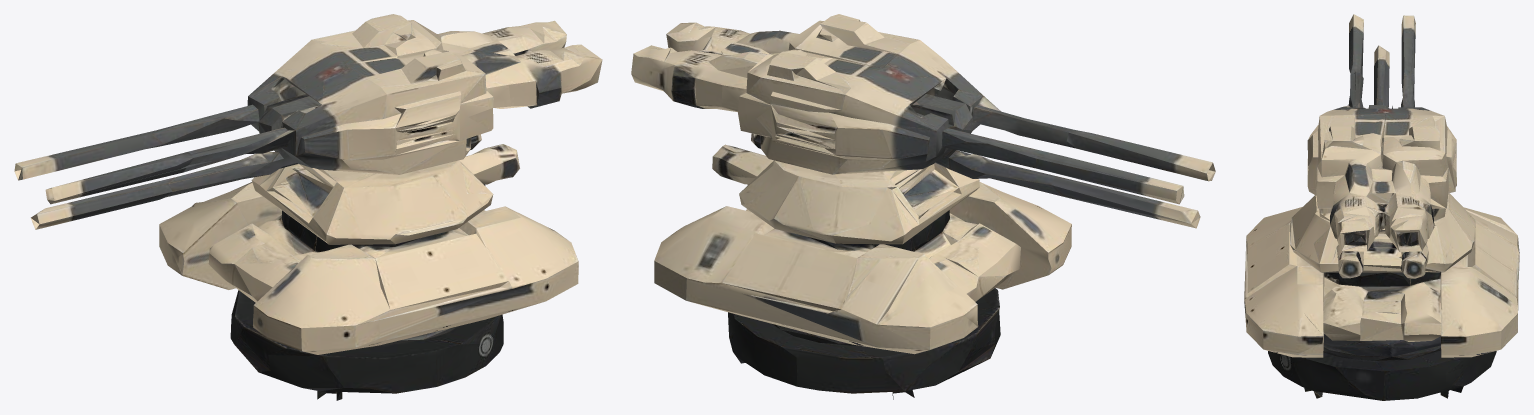
The model's file is rail-turret.glb.
The picture shows the model from 3 angles, left to right: view 1: azimuth 30°, elevation 25°; view 2: azimuth 150°, elevation 25°; view 3: azimuth 270°, elevation 25°; orthographic projection. The views are drawn at different scales.
Bounding box in the file's own units: 1.9 × 0.9924 × 0.9999.
Materials: 1 (1 with a texture image).
